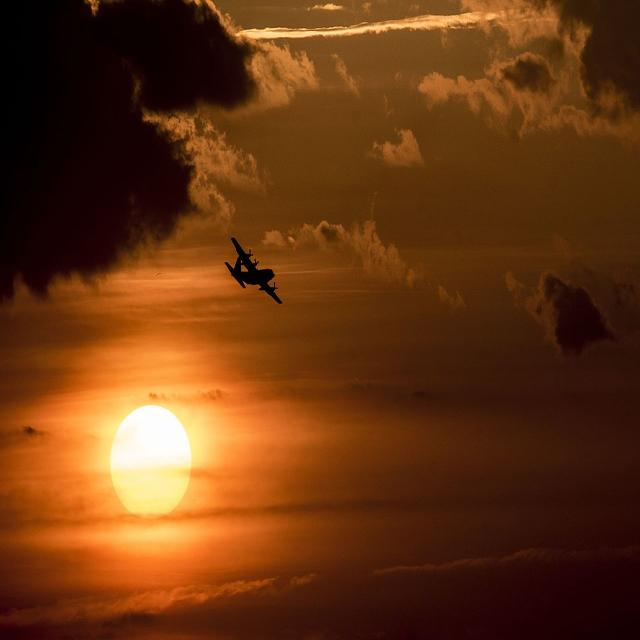MIL_Plane: (221, 237, 280, 304)
